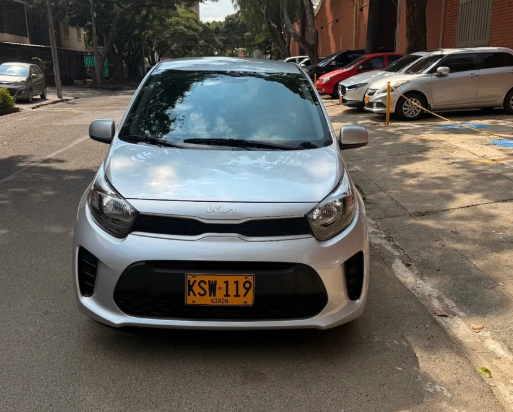placa: (184, 272, 255, 306)
